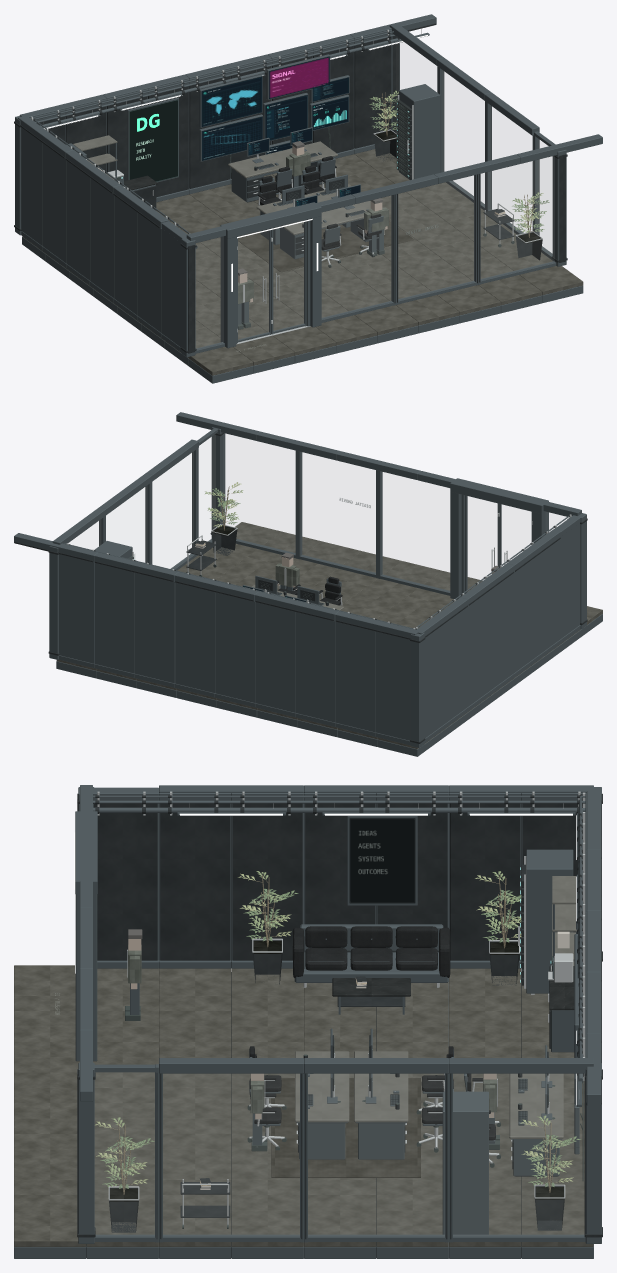
File: ResearchRoom.glb
3 renders of one model, top to bottom at view 1: azimuth 30°, elevation 25°; view 2: azimuth 150°, elevation 25°; view 3: azimuth 270°, elevation 25°, orthographic. The views are drawn at different scales.
Visible parts, largest first — view 1: EntrancePortal-198_BlackenedSteel__mesh, DGLogoPanel-249_DGIdentity__mesh, WallPanel-160_Powdercoat__mesh, ServerRack-262_BlackenedSteel__mesh, WallPanel-168_BlackenedSteel__mesh, WallPanel-166_BlackenedSteel__mesh, WallPanel-164_BlackenedSteel__mesh, WallPanel-172_BlackenedSteel__mesh, WallPanel-170_BlackenedSteel__mesh, WallPanel-174_BlackenedSteel__mesh, WallPanel-162_BlackenedSteel__mesh, MonitorWall-215_Screen_map__screen_map (+90 smaller); view 2: WallPanel-152_BlackenedSteel__mesh, WallPanel-148_BlackenedSteel__mesh, WallPanel-146_BlackenedSteel__mesh, WallPanel-150_BlackenedSteel__mesh, WallPanel-156_BlackenedSteel__mesh, WallPanel-154_BlackenedSteel__mesh, WallPanel-158_BlackenedSteel__mesh, WallPanel-160_BlackenedSteel__mesh, WallPanel-144_BlackenedSteel__mesh, EntrancePortal-198_BlackenedSteel__mesh, WallPanel-174_BlackenedSteel__mesh, WallPanel-164_BlackenedSteel__mesh (+48 smaller); view 3: WallPanel-172_Powdercoat__mesh, WallPanel-164_Powdercoat__mesh, WallPanel-170_Powdercoat__mesh, WallPanel-174_Powdercoat__mesh, Sofa-252_BlackLeather__mesh, Rug-263_GraphiteWoven__mesh, SloganPanel-255_Slogan__mesh, WallPanel-168_Powdercoat__mesh, ServerRack-262_BlackenedSteel__mesh, WallPanel-166_Powdercoat__mesh, ServerRack-250_BlackenedSteel__mesh, EntrancePortal-198_BlackenedSteel__mesh (+119 smaller).
Boxes of the visible parts, box(x1,y1,x2,y2) form: EntrancePortal-198_BlackenedSteel__mesh: box(220, 202, 321, 348); DGLogoPanel-249_DGIdentity__mesh: box(129, 99, 178, 181); WallPanel-160_Powdercoat__mesh: box(354, 37, 391, 148); ServerRack-262_BlackenedSteel__mesh: box(399, 84, 440, 179); WallPanel-168_BlackenedSteel__mesh: box(90, 178, 114, 302); WallPanel-166_BlackenedSteel__mesh: box(66, 161, 90, 285); WallPanel-164_BlackenedSteel__mesh: box(42, 143, 66, 267); WallPanel-172_BlackenedSteel__mesh: box(137, 213, 161, 337); WallPanel-170_BlackenedSteel__mesh: box(114, 195, 137, 319); WallPanel-174_BlackenedSteel__mesh: box(161, 221, 187, 352); WallPanel-162_BlackenedSteel__mesh: box(21, 128, 42, 250); MonitorWall-215_Screen_map__screen_map: box(201, 76, 262, 126); WallPanel-152_BlackenedSteel__mesh: box(215, 592, 255, 707); WallPanel-148_BlackenedSteel__mesh: box(295, 612, 335, 726); WallPanel-146_BlackenedSteel__mesh: box(335, 622, 375, 736); WallPanel-150_BlackenedSteel__mesh: box(255, 602, 295, 717); WallPanel-156_BlackenedSteel__mesh: box(134, 573, 175, 687); WallPanel-154_BlackenedSteel__mesh: box(175, 582, 215, 697); WallPanel-158_BlackenedSteel__mesh: box(94, 563, 134, 677); WallPanel-160_BlackenedSteel__mesh: box(59, 554, 94, 668); WallPanel-144_BlackenedSteel__mesh: box(375, 631, 410, 745); EntrancePortal-198_BlackenedSteel__mesh: box(450, 478, 548, 599); WallPanel-174_BlackenedSteel__mesh: box(554, 515, 582, 643); WallPanel-164_BlackenedSteel__mesh: box(443, 607, 467, 728); WallPanel-172_Powdercoat__mesh: box(160, 803, 230, 960); WallPanel-164_Powdercoat__mesh: box(450, 803, 520, 960); WallPanel-170_Powdercoat__mesh: box(232, 803, 302, 960); WallPanel-174_Powdercoat__mesh: box(94, 803, 157, 960); Sofa-252_BlackLeather__mesh: box(292, 926, 450, 977); Rug-263_GraphiteWoven__mesh: box(271, 1078, 420, 1177); SloganPanel-255_Slogan__mesh: box(349, 818, 415, 903); WallPanel-168_Powdercoat__mesh: box(305, 803, 375, 952); ServerRack-262_BlackenedSteel__mesh: box(442, 1091, 488, 1234); WallPanel-166_Powdercoat__mesh: box(377, 803, 447, 952); ServerRack-250_BlackenedSteel__mesh: box(526, 849, 573, 993); EntrancePortal-198_BlackenedSteel__mesh: box(75, 811, 97, 1061).
Bounding box in the file's own units: 12.15 × 3.63 × 9.75.
35 materials, 18 textured.
